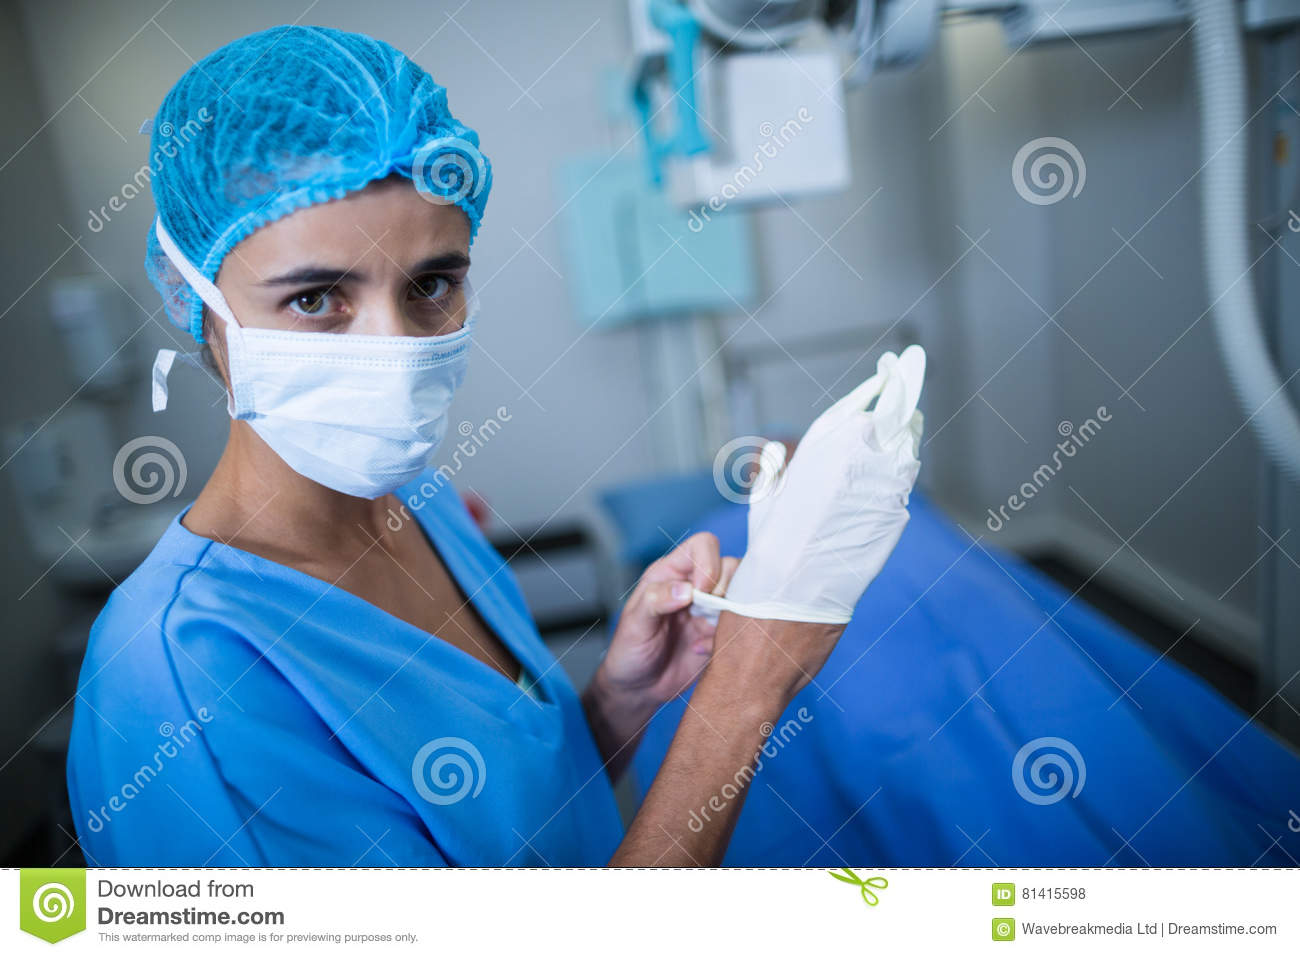mask: (222, 317, 494, 501)
